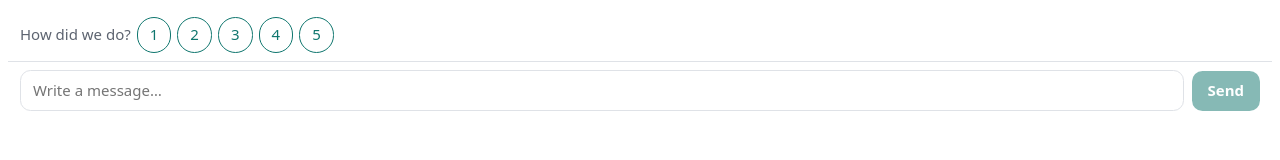
Test: <OcsoChat /> › asks for CSAT once the conversation is resolved
Click the button named "5 out of 5" at (316, 35), box [299,17,334,53]
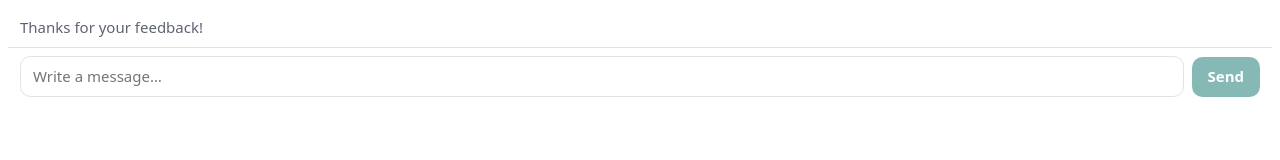
Expected: the text "Thanks for your feedback!" is shown, [20,17,203,37]
